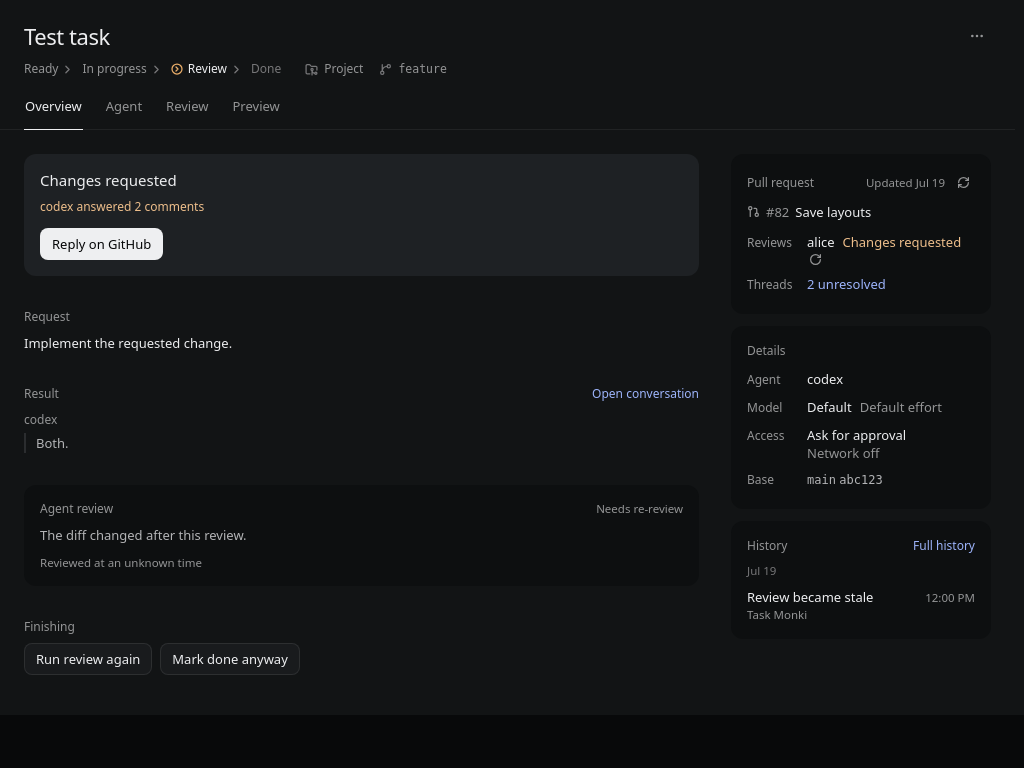
Pull request feedback › starts a reply from the head only for a thread whose file changed since the review the agent's Fixed followed
Click the button "Reply on GitHub" at (102, 244), box [40,228,163,260]
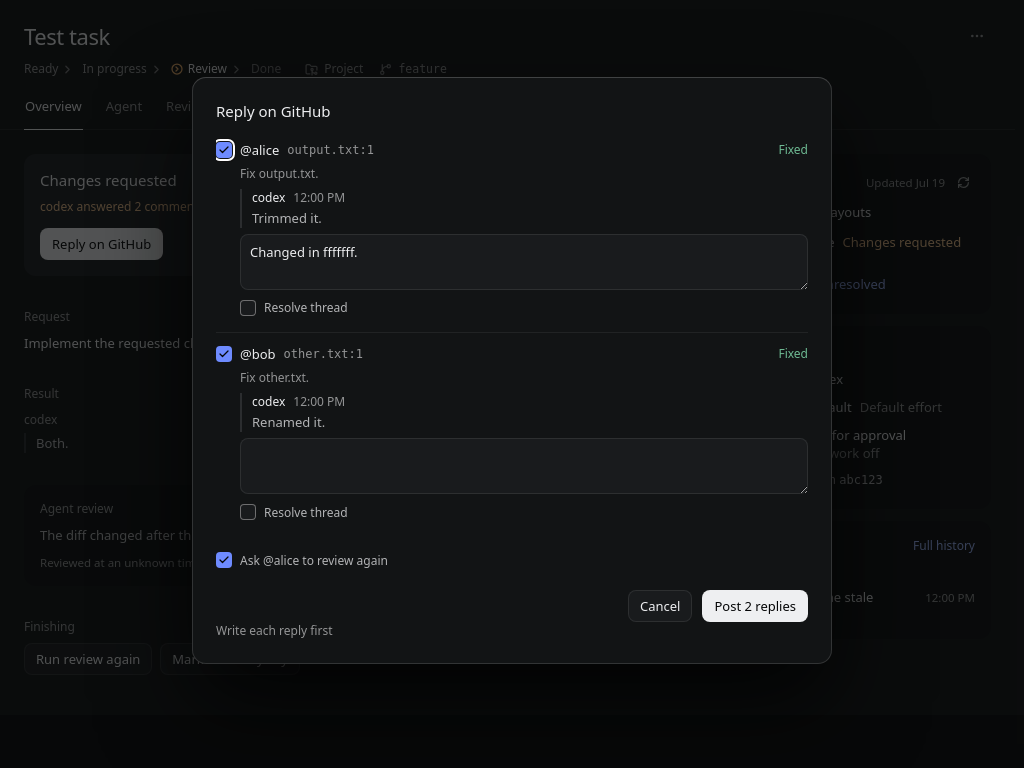
Check: the text box named "Reply to @alice" holds "Changed in fffffff.", box [240,234,808,290]
Check: the text box named "Reply to @bob" is empty, box [240,438,808,494]
Check: the text "Renamed it." is shown, box [252,413,325,431]
